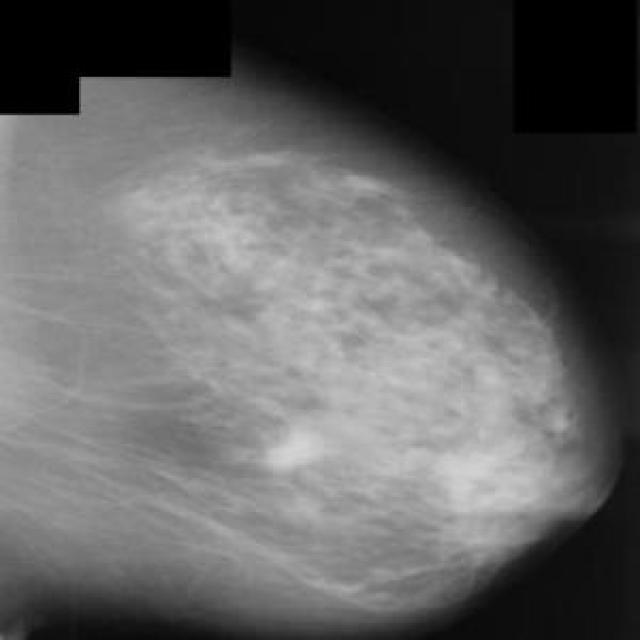tumor: (430, 360, 588, 534), (256, 366, 369, 498)
